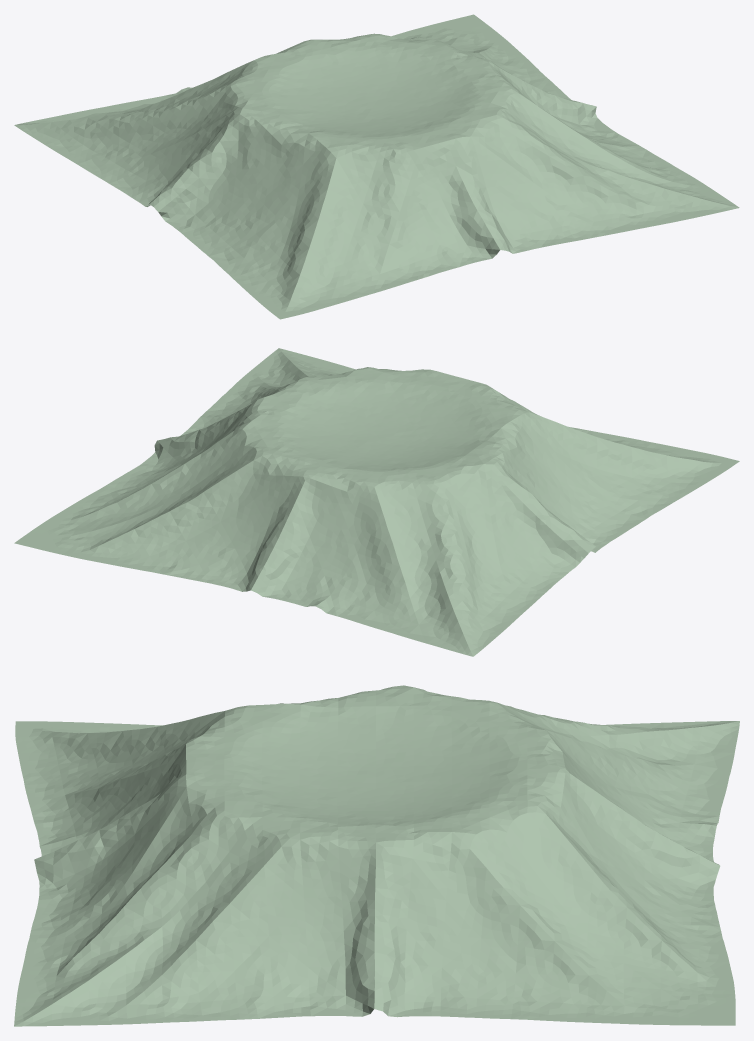
Rendered from level_2.glb.
The picture shows the model from 3 angles, top to bottom: view 1: azimuth 30°, elevation 25°; view 2: azimuth 150°, elevation 25°; view 3: azimuth 270°, elevation 25°; orthographic projection. The views are drawn at different scales.
Parts seen in each view (by area): view 1: world; view 2: world; view 3: world.
Boxes of the visible parts, x1,y1,x2,y2 form: world: (14, 14, 739, 319); world: (14, 348, 739, 656); world: (14, 685, 739, 1026).
Size of the model in its own units: 0.609 by 0.0989 by 0.6113.
